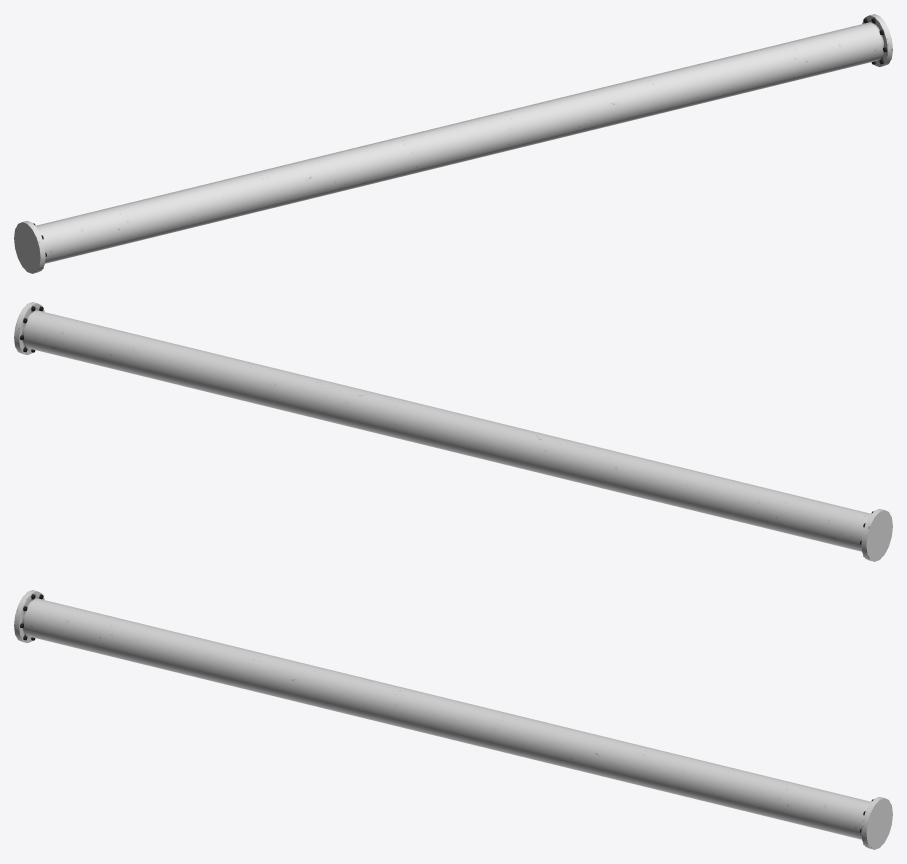
File: Pipe_250cm.fbx
3 renders of one model, top to bottom at view 1: azimuth 30°, elevation 25°; view 2: azimuth 150°, elevation 25°; view 3: azimuth 330°, elevation 25°, orthographic.
Visible parts, largest first — view 1: Pipe_250cm; view 2: Pipe_250cm; view 3: Pipe_250cm.
Part boxes in pixels (left/top/right/bottom): Pipe_250cm: left=14, top=14, right=892, bottom=273; Pipe_250cm: left=14, top=302, right=892, bottom=561; Pipe_250cm: left=14, top=590, right=892, bottom=849.
Size of the model in its own units: 250 by 13.5 by 13.5.
